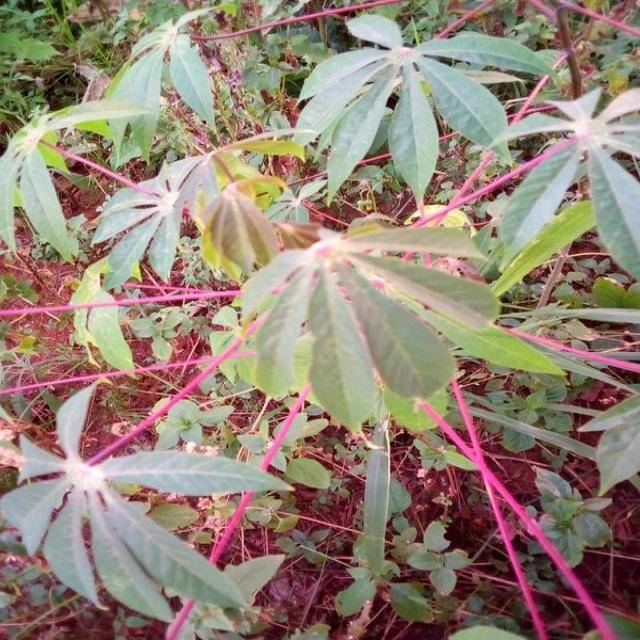cassava leaf: (234, 218, 564, 435), (0, 378, 291, 624), (293, 13, 561, 210)
